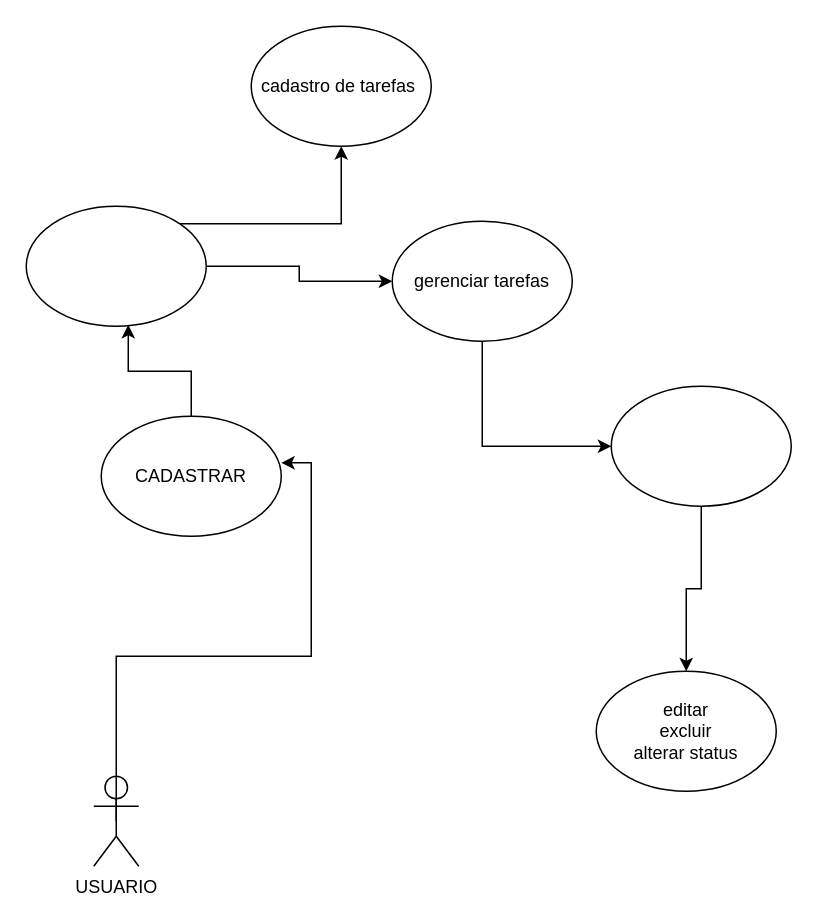
The diagram is 818 pixels wide and 924 high, and some of its shapes have lost their labels. The centre of each missing label's shape, as x and y in pixels:
"gerenciamento de tarefas" goes at point 115,265.
"tarefas/ a fazer fazendo pronto" goes at point 700,445.
